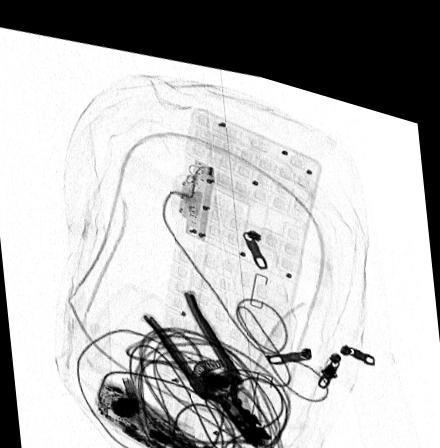Pliers: (140, 279, 273, 432)
